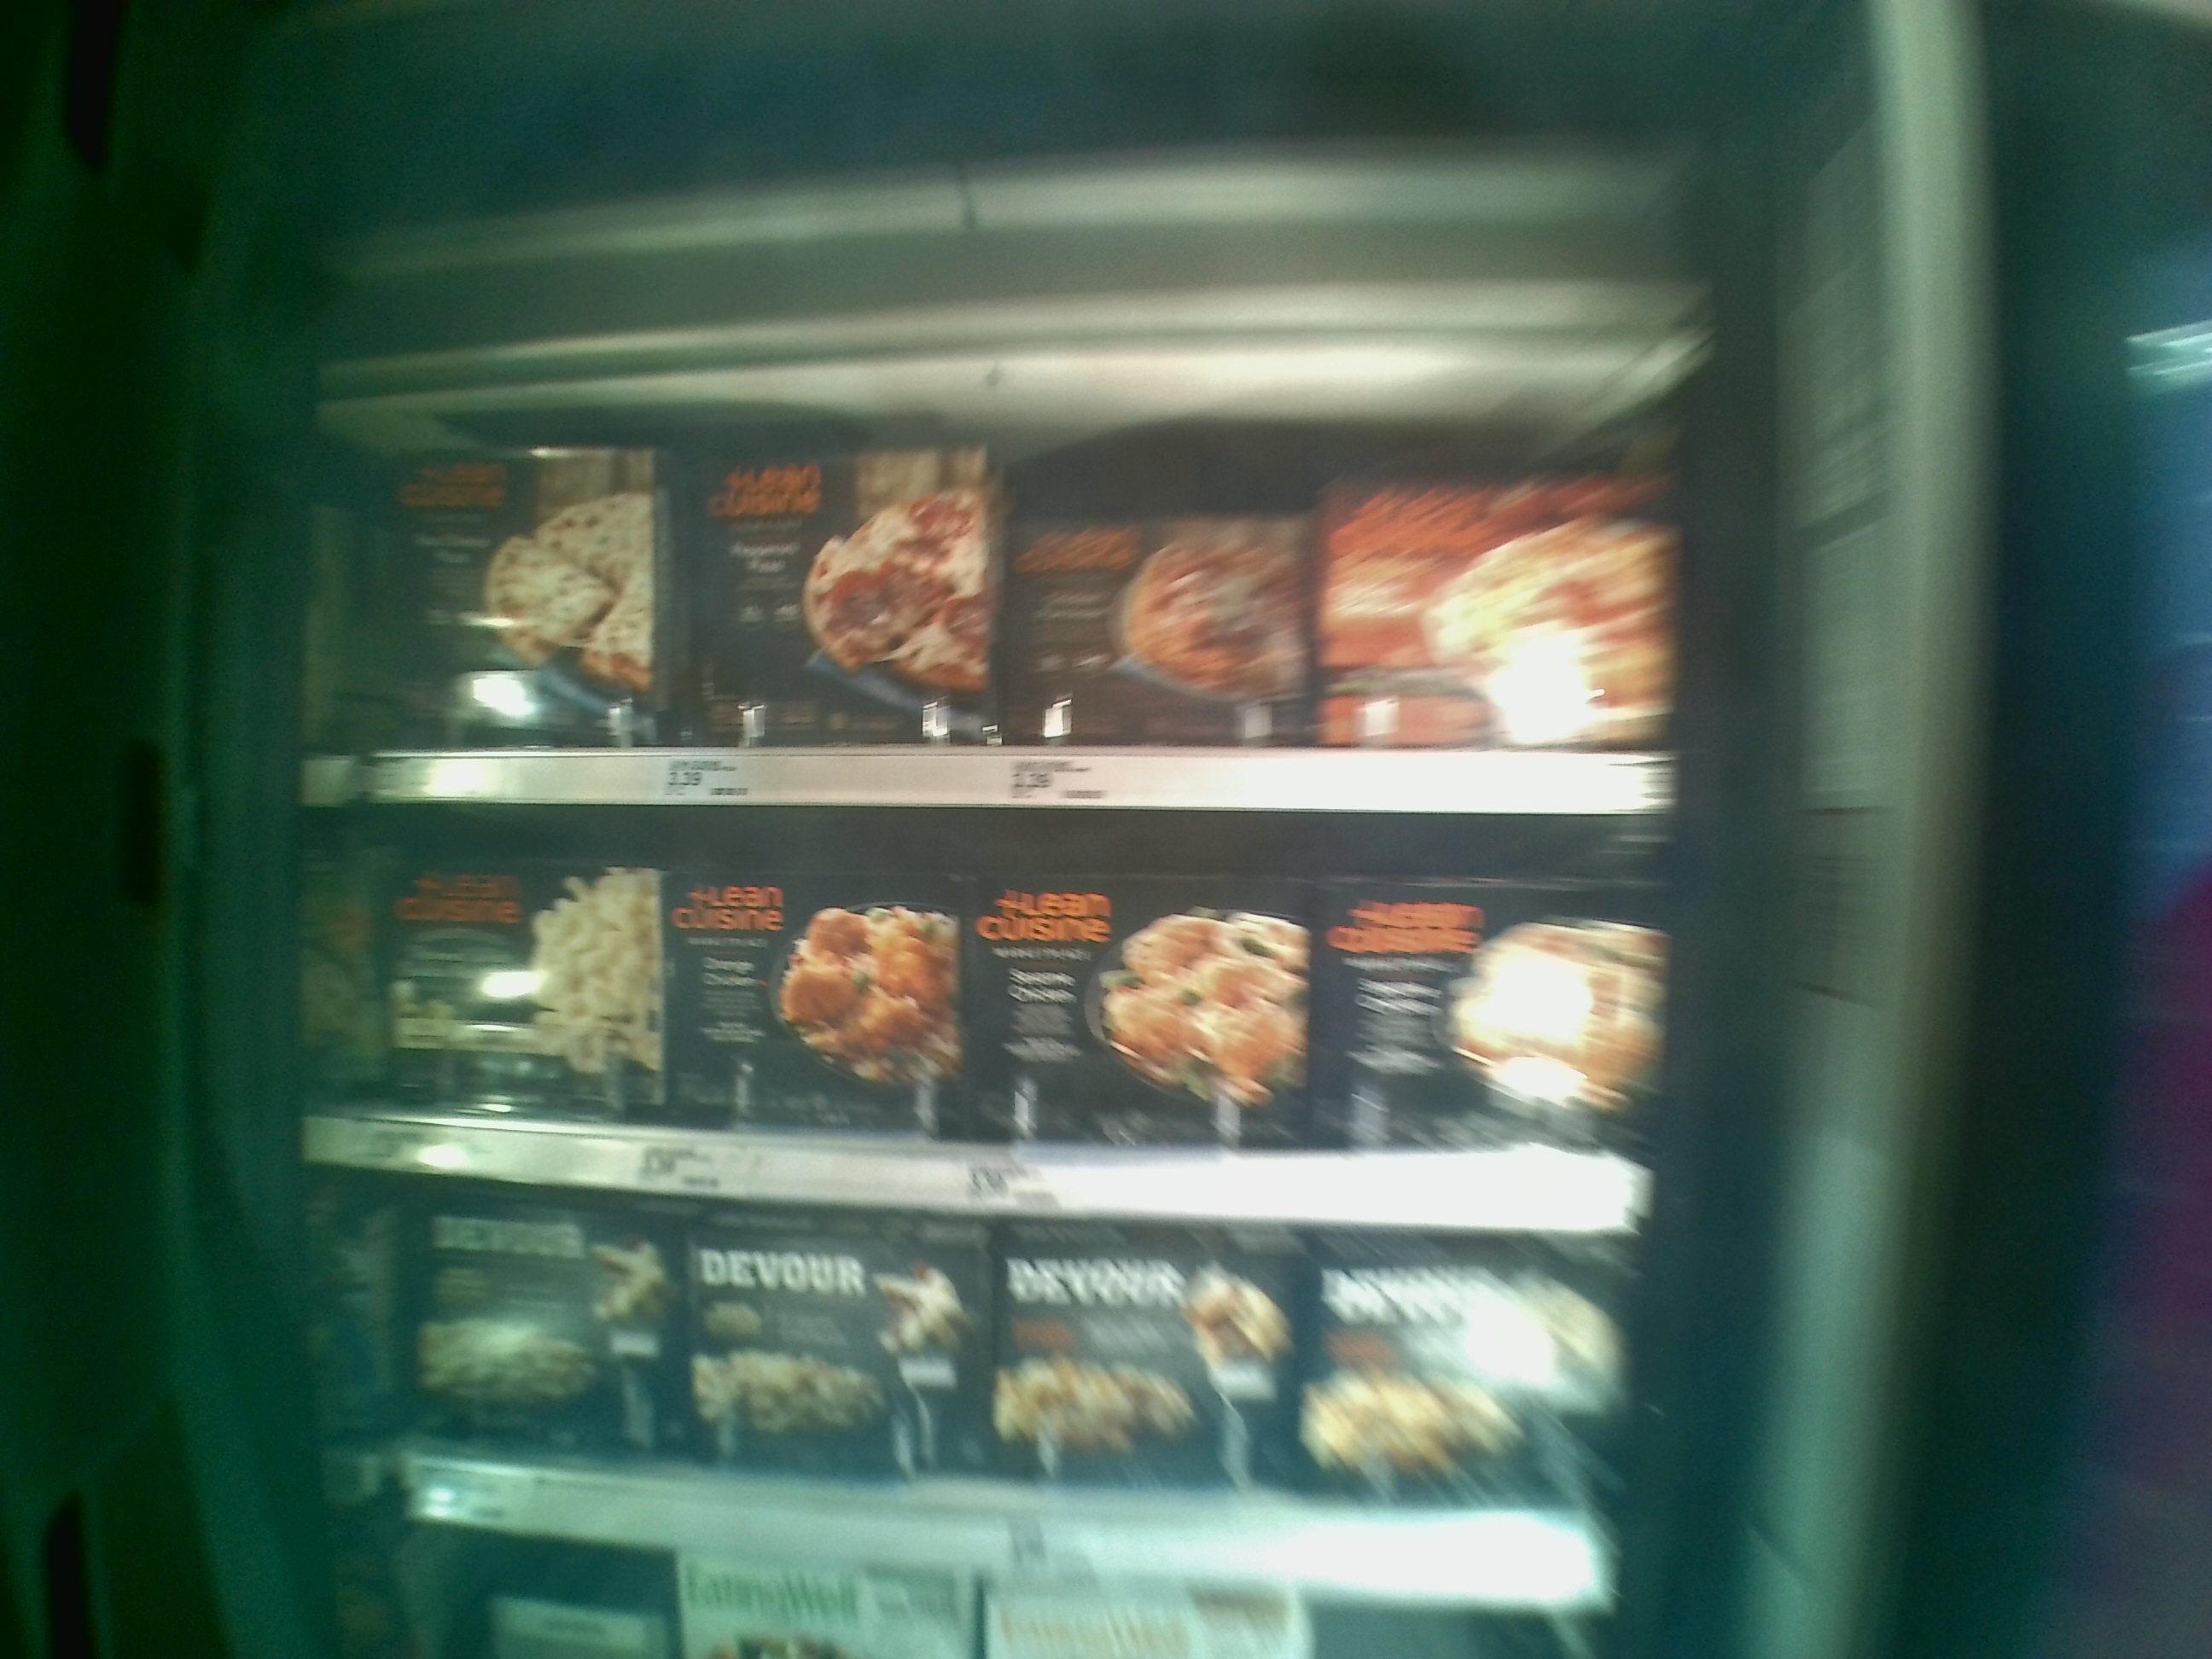shelf: (308, 361, 1679, 803), (310, 802, 1644, 1236)
